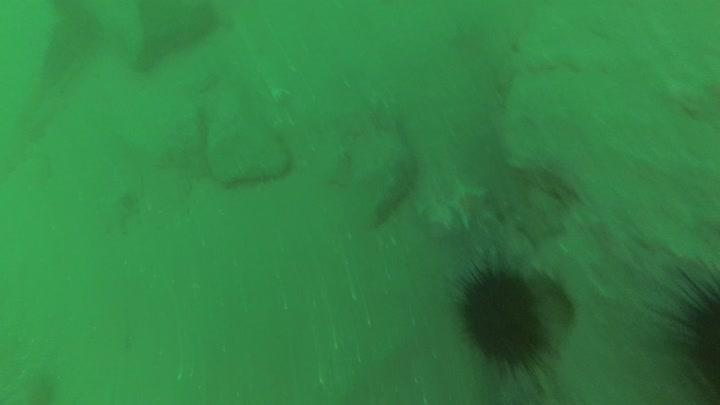urchin: (430, 255, 569, 384), (647, 263, 720, 390)
